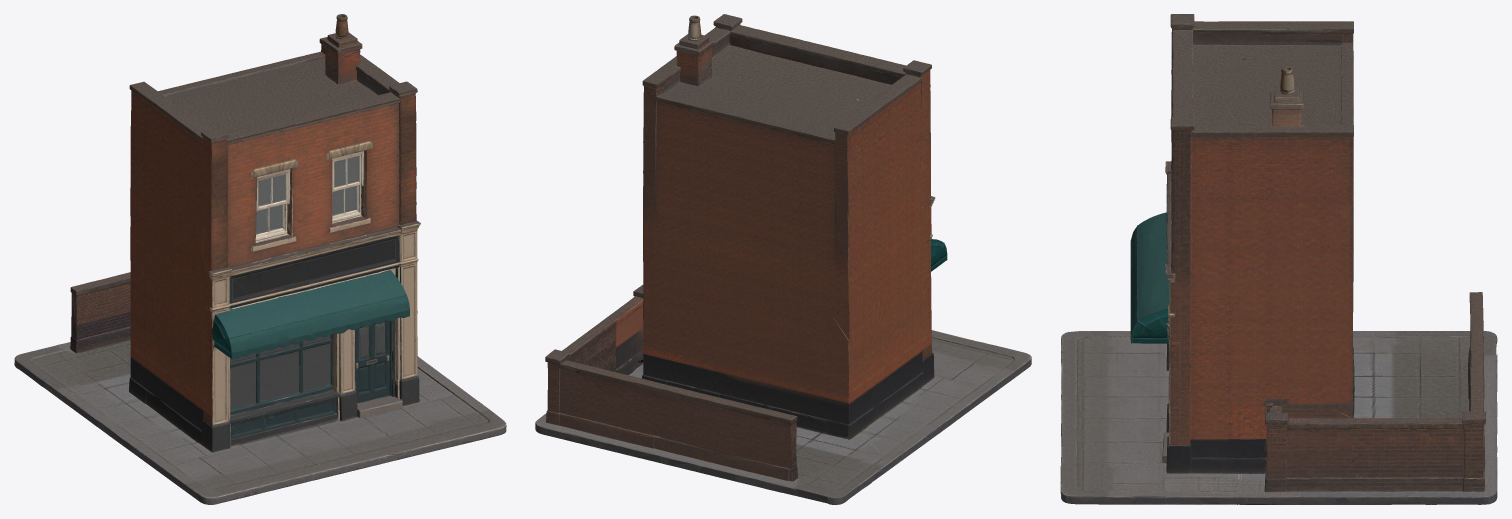
Rendered from building_small_b.glb.
The picture shows the model from 3 angles, left to right: view 1: azimuth 30°, elevation 25°; view 2: azimuth 150°, elevation 25°; view 3: azimuth 270°, elevation 25°; orthographic projection. The views are drawn at different scales.
Parts seen in each view (by area): view 1: output_unwrapped; view 2: output_unwrapped; view 3: output_unwrapped.
Part boxes in pixels (x1,y1,x2,y2): output_unwrapped: [14, 14, 506, 504]; output_unwrapped: [535, 14, 1031, 504]; output_unwrapped: [1060, 14, 1497, 504].
Size of the model in its own units: 1.79 by 2 by 1.98.
Materials: 1 (1 with a texture image).
